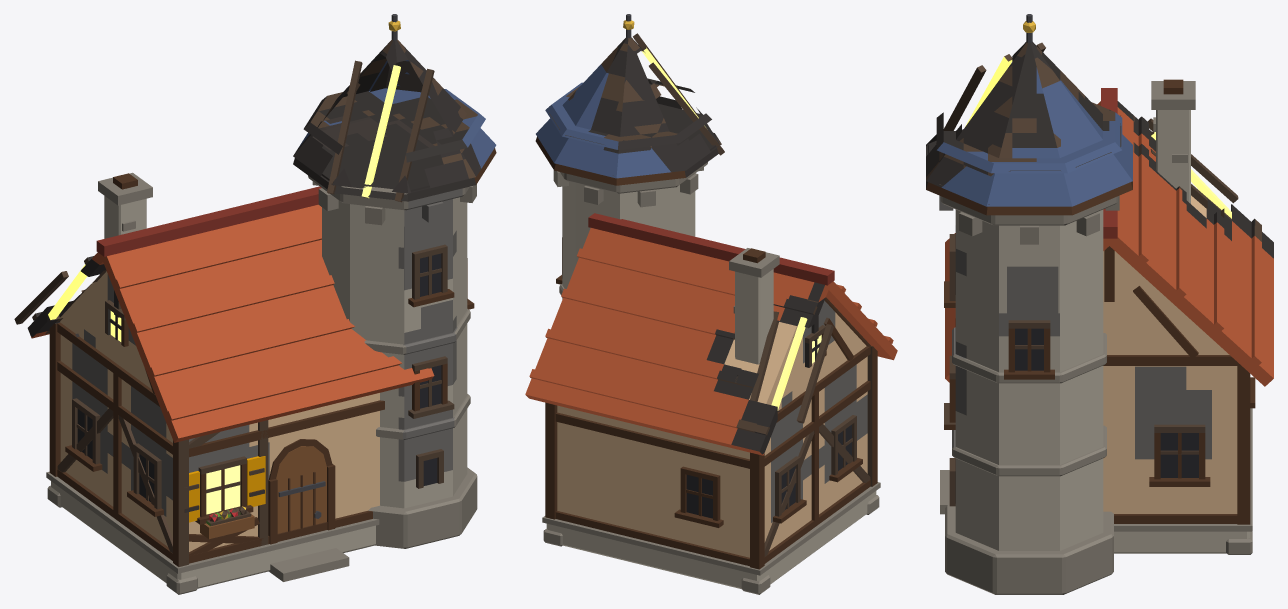
The model's file is Haus_Turm_Beschaedigt.fbx.
3 renders of one model, left to right at view 1: azimuth 30°, elevation 25°; view 2: azimuth 150°, elevation 25°; view 3: azimuth 270°, elevation 25°, orthographic. The views are drawn at different scales.
Visible parts, largest first — view 1: Haus_Turm_Beschaedigt; view 2: Haus_Turm_Beschaedigt; view 3: Haus_Turm_Beschaedigt.
Part boxes in pixels (left/top/right/bottom): Haus_Turm_Beschaedigt: left=14, top=14, right=496, bottom=594; Haus_Turm_Beschaedigt: left=525, top=14, right=897, bottom=594; Haus_Turm_Beschaedigt: left=926, top=14, right=1273, bottom=594.
Bounding box in the file's own units: 7.22 × 9.4 × 5.44.
